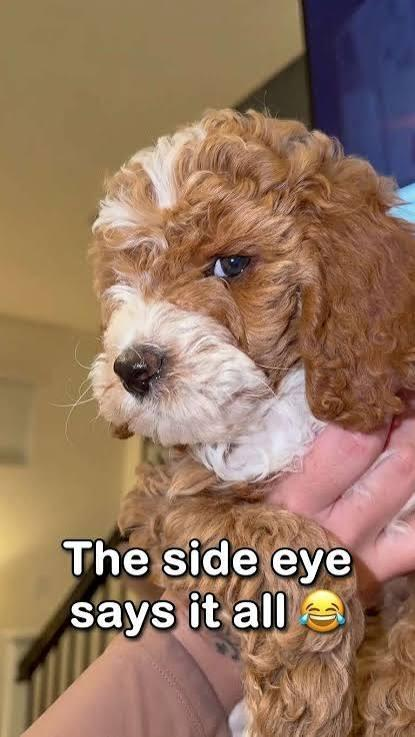puppy-dog: (90, 108, 415, 737)
